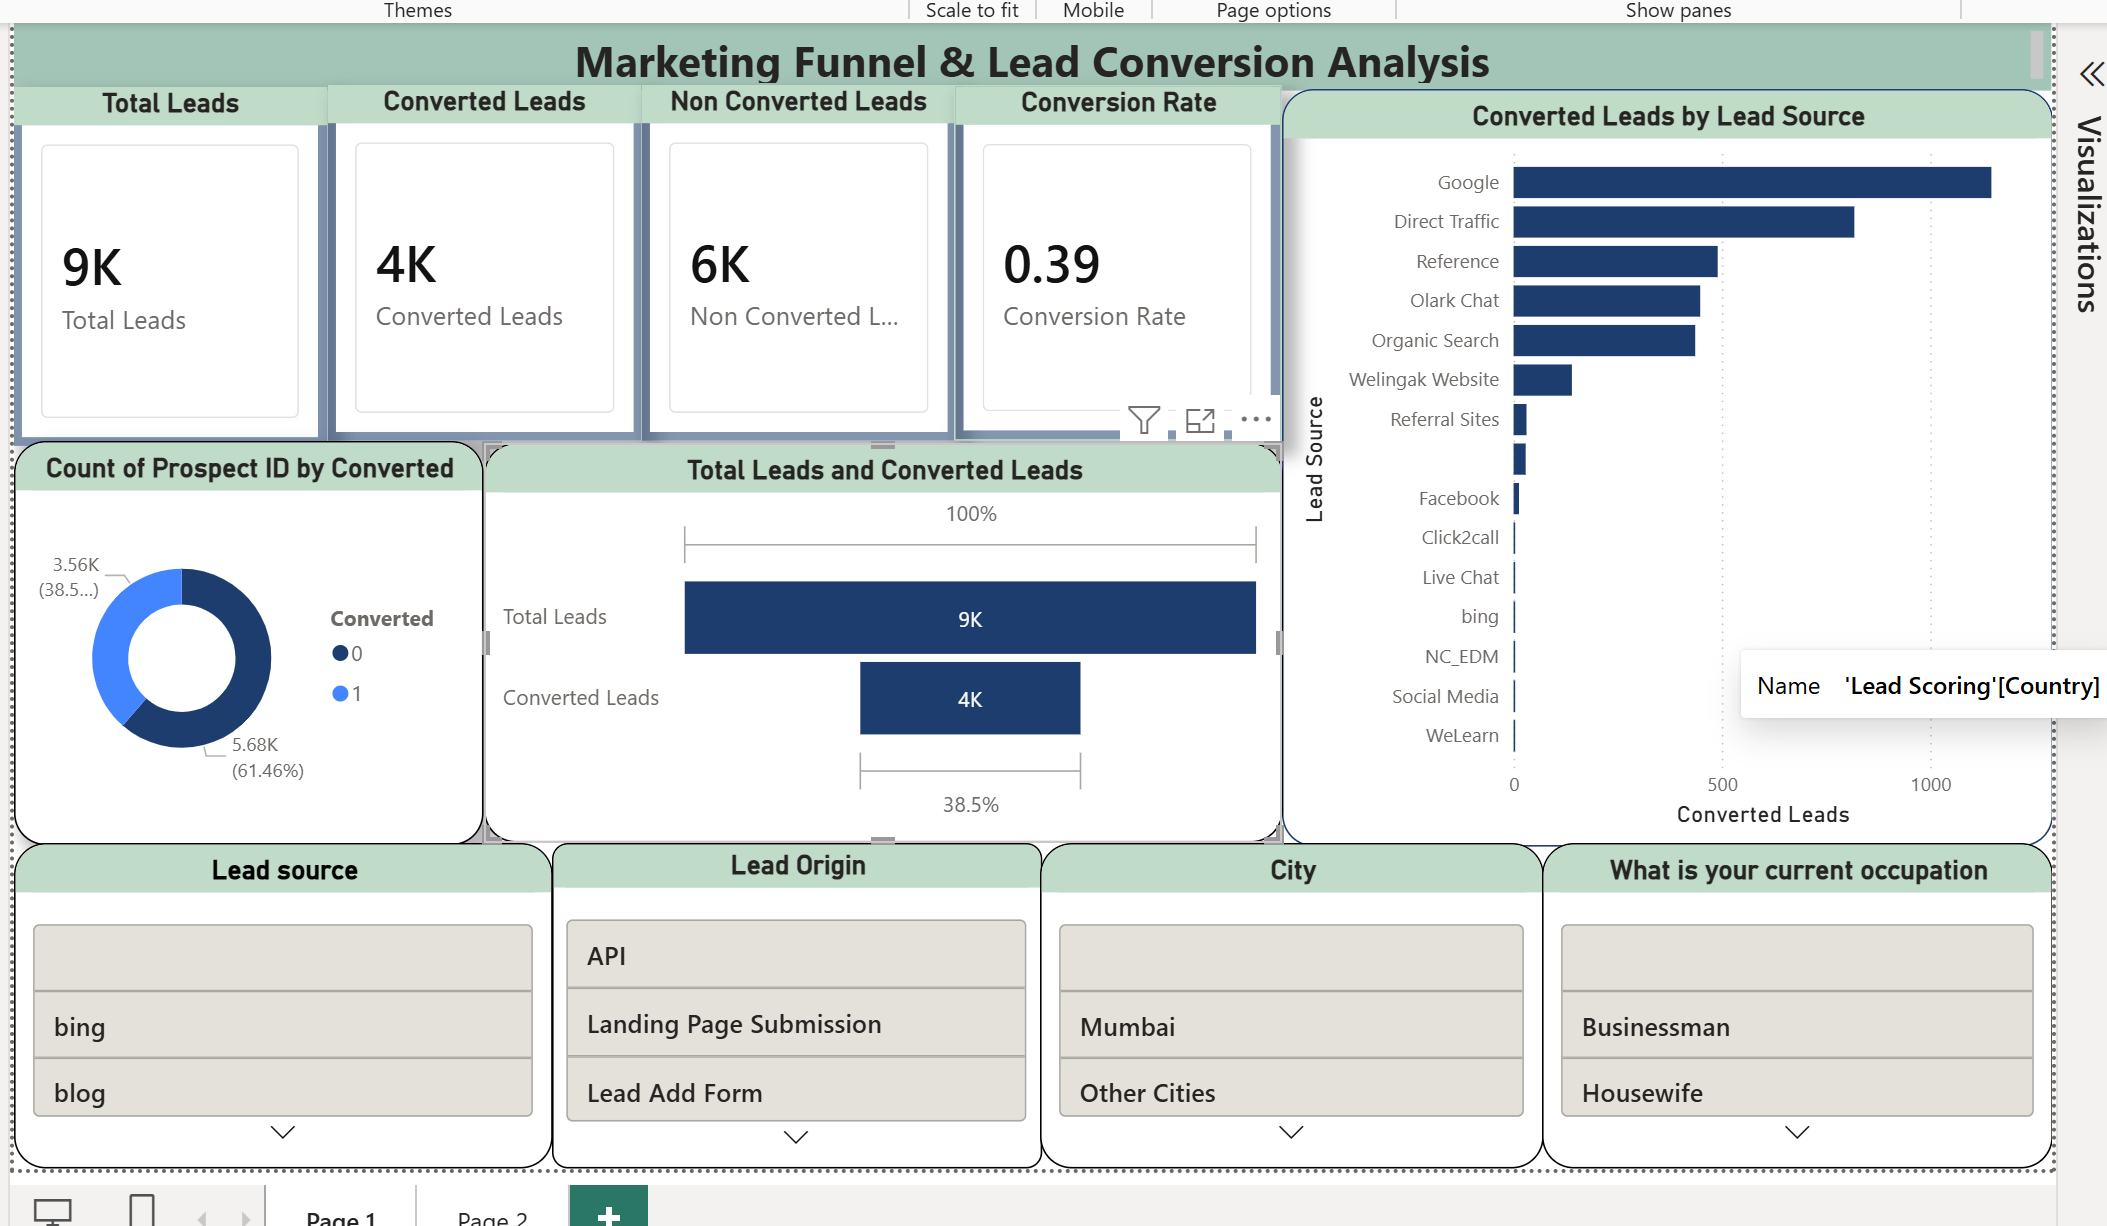

The dashboard page shown, as its layout file describes it:
{"tool":"powerbi","page":{"name":"Page 1","canvas":[1280,720],"ordinal":0},"visuals":[{"type":"textbox","box":[0,0,1280,42.3],"z":0},{"type":"cardVisual","title":"Total Leads","fields":{"Data":["Lead Scoring.Total Leads"]},"box":[0,39.8,196.9,225.3],"z":1000},{"type":"cardVisual","title":"Converted Leads","fields":{"Data":["Lead Scoring.Converted Leads"]},"box":[197,39.4,197,223.3],"z":2000},{"type":"cardVisual","title":"Non Converted Leads","fields":{"Data":["Lead Scoring.Non Converted Leads"]},"box":[394.1,39.4,197,223.3],"z":3000},{"type":"cardVisual","title":"Conversion Rate","fields":{"Data":["Lead Scoring.Conversion Rate"]},"box":[591.1,39.4,205.8,223.3],"z":4000},{"type":"barChart","fields":{"Y":["Lead Scoring.Converted Leads"],"Category":["Lead Scoring.Lead Source"]},"box":[796.9,40.9,484.6,475.8],"z":5000},{"type":"donutChart","fields":{"Y":["CountNonNull(Lead Scoring.Prospect ID)"],"Category":["Lead Scoring.Converted"]},"box":[0,262.7,294.8,254],"z":6000},{"type":"cardVisual","title":"Lead source","fields":{"Data":["Min(Lead Scoring.Lead Source)"],"Rows":["Lead Scoring.Lead Source"]},"box":[0,515.2,338.6,204.3],"z":7000},{"type":"cardVisual","title":"Lead Origin","fields":{"Rows":["Lead Scoring.Lead Origin"]},"box":[338.6,515.2,308,204.3],"z":8000},{"type":"cardVisual","title":"City","fields":{"Rows":["Lead Scoring.City"],"Data":["Lead Scoring.Total Leads"]},"box":[645.1,515.2,316.7,204.3],"z":9000},{"type":"cardVisual","title":"What is your current occupation","fields":{"Rows":["Lead Scoring.What is your current occupation"]},"box":[960.4,515.2,321.1,204.3],"z":10000},{"type":"funnel","fields":{"Y":["Lead Scoring.Total Leads","Lead Scoring.Converted Leads"]},"box":[294.8,264.2,502.1,251],"z":11000}]}

Visuals, with their boxes in screenshot pixels (x1, y1, x2, y2):
textbox: {"left": 27, "top": 33, "right": 2032, "bottom": 99}
"Total Leads" cardVisual: {"left": 27, "top": 95, "right": 336, "bottom": 448}
"Converted Leads" cardVisual: {"left": 336, "top": 95, "right": 644, "bottom": 444}
"Non Converted Leads" cardVisual: {"left": 645, "top": 95, "right": 953, "bottom": 444}
"Conversion Rate" cardVisual: {"left": 953, "top": 95, "right": 1275, "bottom": 444}
barChart - Lead Scoring.Converted Leads x Lead Scoring.Lead Source: {"left": 1275, "top": 97, "right": 2034, "bottom": 842}
donutChart - CountNonNull(Lead Scoring.Prospect ID) x Lead Scoring.Converted: {"left": 27, "top": 444, "right": 489, "bottom": 842}
"Lead source" cardVisual: {"left": 27, "top": 840, "right": 558, "bottom": 1160}
"Lead Origin" cardVisual: {"left": 558, "top": 840, "right": 1040, "bottom": 1160}
"City" cardVisual: {"left": 1038, "top": 840, "right": 1533, "bottom": 1160}
"What is your current occupation" cardVisual: {"left": 1531, "top": 840, "right": 2034, "bottom": 1160}
funnel - Lead Scoring.Total Leads x Lead Scoring.Converted Leads: {"left": 489, "top": 447, "right": 1275, "bottom": 840}
